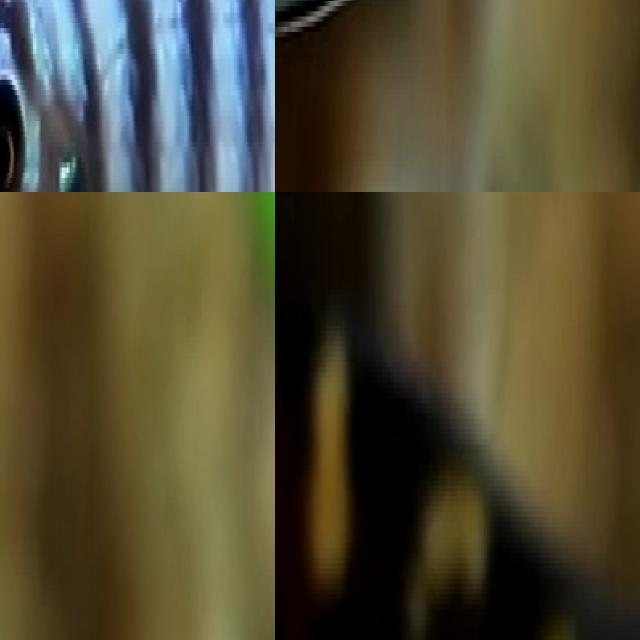fish: (275, 0, 628, 156), (0, 0, 275, 192)
